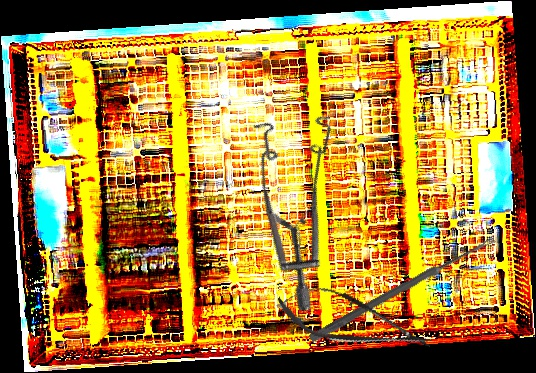Micro Scissor: (271, 275, 438, 367)
Speculum: (205, 88, 410, 315)
Surgical Spoon: (308, 233, 497, 345)
